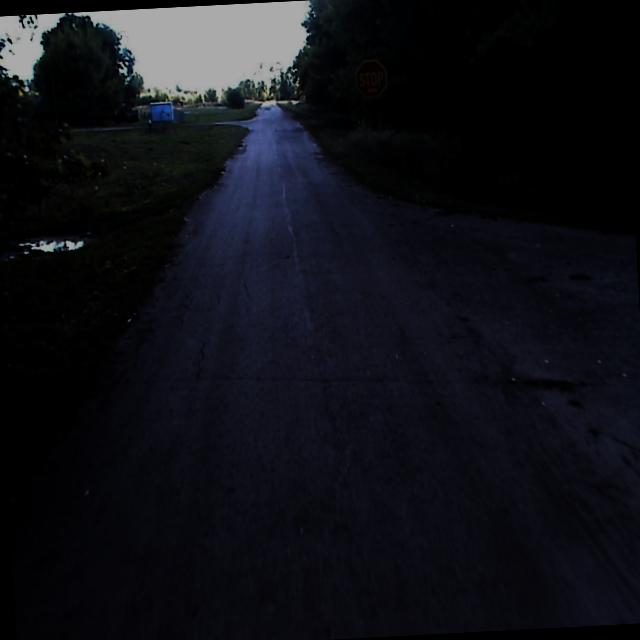road: (9, 111, 640, 640)
